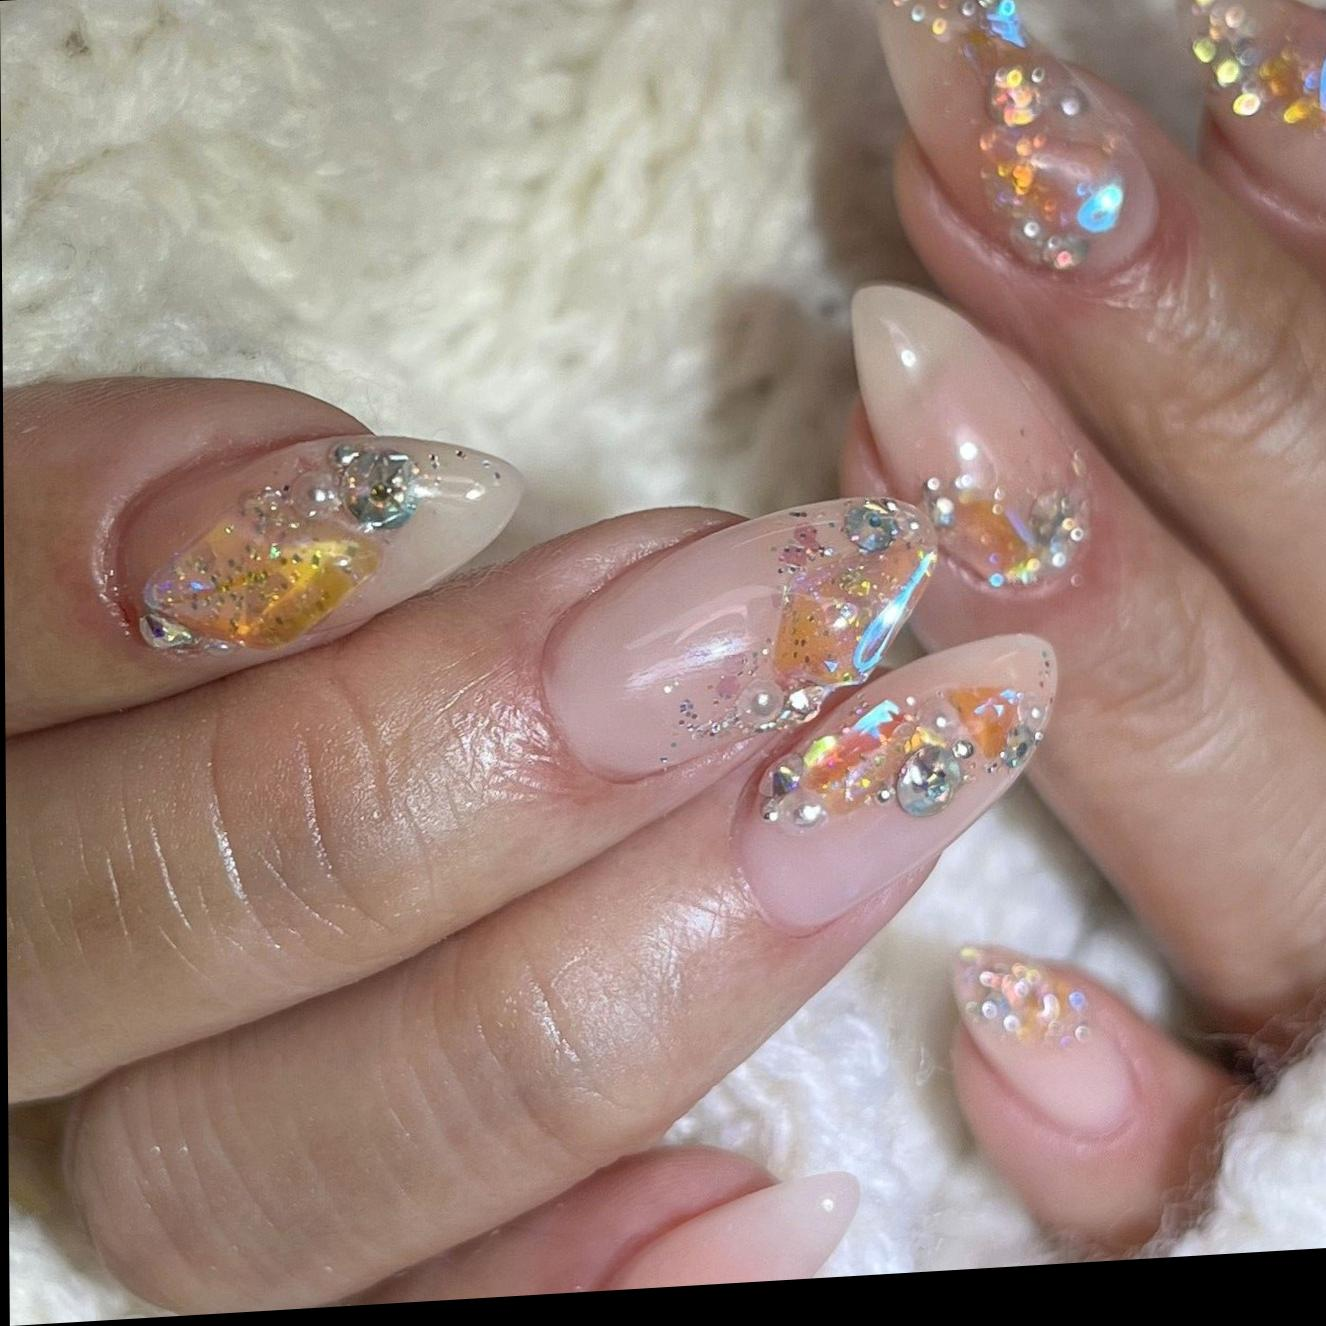nail: (539, 487, 942, 788), (731, 628, 1064, 937), (130, 421, 527, 663), (873, 0, 1163, 299), (841, 268, 1098, 606), (1180, 0, 1326, 253), (582, 1166, 865, 1292)
